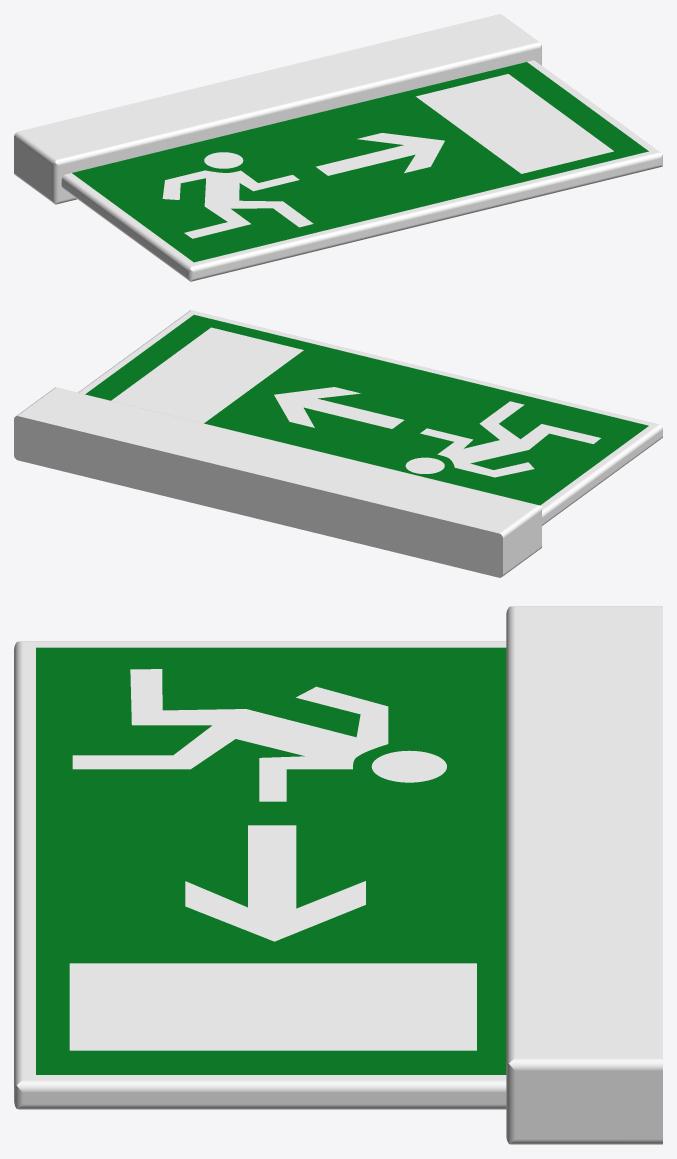
Rendered from ExitSign.FBX.
The picture shows the model from 3 angles, top to bottom: view 1: azimuth 30°, elevation 25°; view 2: azimuth 150°, elevation 25°; view 3: azimuth 270°, elevation 25°; orthographic projection. The views are drawn at different scales.
Parts seen in each view (by area): view 1: emergency.iges, 8B, 7F; view 2: emergency.iges, 8B, 7F; view 3: emergency.iges, 8B, 7F.
Part boxes in pixels (x1,y1,x2,y2): emergency.iges: [14, 14, 662, 281]; 8B: [72, 62, 648, 262]; 7F: [204, 152, 243, 168]; emergency.iges: [14, 310, 662, 577]; 8B: [85, 315, 648, 505]; 7F: [405, 457, 444, 473]; emergency.iges: [14, 606, 662, 1144]; 8B: [36, 647, 506, 1074]; 7F: [371, 750, 446, 782].
Size of the model in its own units: 346 by 30 by 207.
